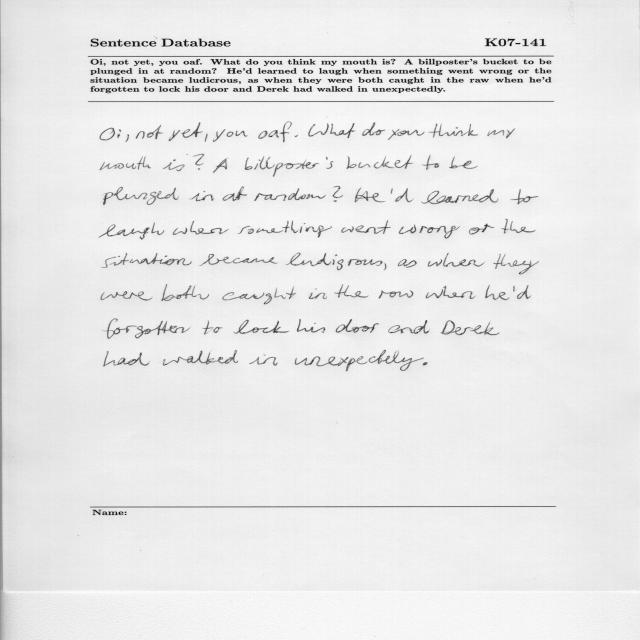word: (295, 350, 424, 371), (245, 156, 333, 177), (104, 319, 190, 339), (286, 253, 382, 270), (238, 221, 332, 238), (101, 253, 192, 268), (104, 187, 179, 205), (163, 350, 238, 366), (222, 288, 296, 304), (99, 222, 164, 240), (422, 189, 499, 204), (254, 188, 326, 201), (200, 254, 277, 266), (494, 254, 539, 274), (441, 320, 500, 335), (347, 156, 414, 169), (399, 225, 460, 239), (162, 284, 210, 301), (173, 221, 229, 235), (428, 253, 484, 267), (234, 320, 289, 334), (104, 351, 150, 367), (100, 156, 151, 170), (308, 123, 355, 138), (341, 220, 391, 234), (429, 124, 478, 138), (258, 122, 292, 142), (169, 123, 203, 142), (426, 286, 475, 299), (336, 319, 379, 333), (389, 320, 430, 334), (101, 291, 153, 301), (502, 219, 536, 234), (355, 188, 385, 203), (213, 129, 247, 142), (334, 285, 368, 298), (163, 154, 188, 171), (511, 190, 539, 205), (388, 129, 424, 140), (297, 319, 325, 333), (136, 125, 163, 139), (449, 156, 477, 169), (223, 186, 247, 201), (485, 285, 509, 300), (249, 354, 278, 366), (362, 122, 385, 136), (391, 188, 414, 202), (379, 290, 414, 299), (202, 320, 223, 335), (487, 129, 515, 139), (469, 224, 494, 235), (423, 154, 440, 170), (100, 128, 121, 140), (513, 285, 531, 299), (190, 191, 214, 201), (213, 158, 228, 173), (309, 289, 327, 299), (194, 154, 205, 170), (398, 259, 417, 268), (333, 186, 343, 202), (205, 133, 208, 142), (126, 134, 129, 142), (384, 263, 387, 270), (423, 362, 428, 365), (294, 135, 298, 137)
